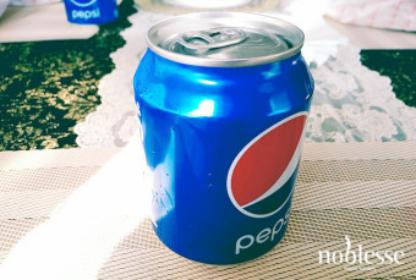Can: (134, 13, 316, 265)
